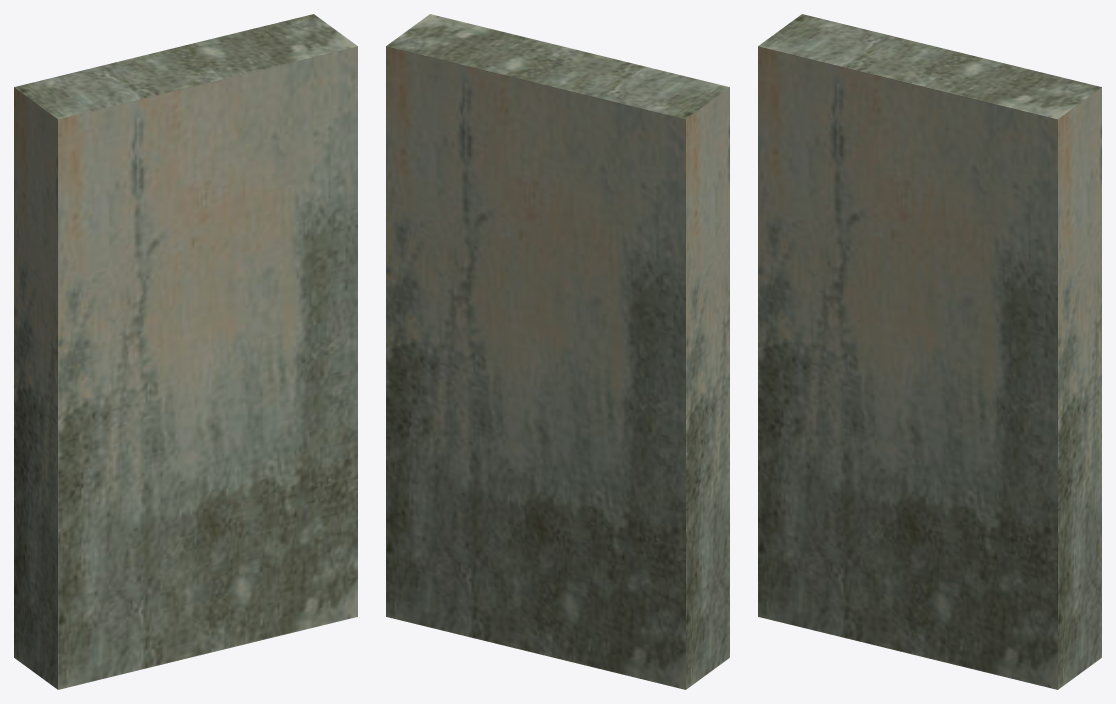
The model's file is door_concrete.glb.
3 views of the same model, side by side, from view 1: azimuth 30°, elevation 25°; view 2: azimuth 150°, elevation 25°; view 3: azimuth 330°, elevation 25° (orthographic).
Parts seen in each view (by area): view 1: door; view 2: door; view 3: door.
Boxes of the visible parts, x1,y1,x2,y2 form: door: (14,14,357,689); door: (386,14,729,689); door: (758,14,1101,689).
Size of the model in its own units: 0.55 by 1 by 0.14.
Materials: 1 (1 with a texture image).
